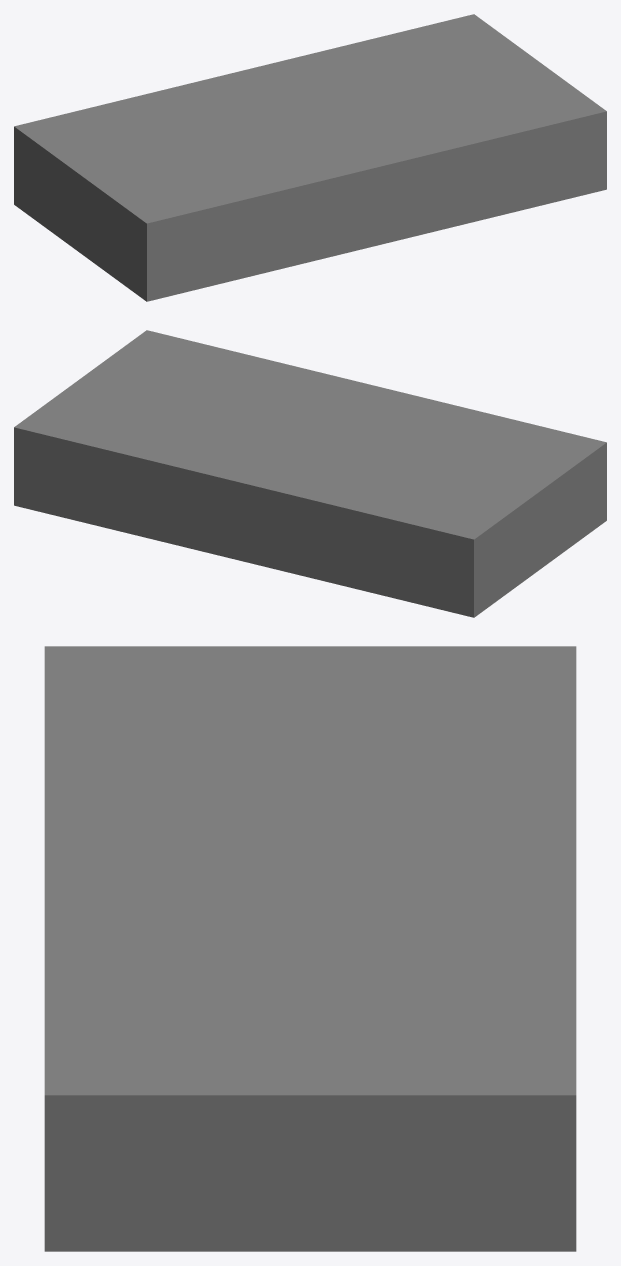
File: DeliveryConveyor.obj
3 views of the same model, one above another, from view 1: azimuth 30°, elevation 25°; view 2: azimuth 150°, elevation 25°; view 3: azimuth 270°, elevation 25° (orthographic). The views are drawn at different scales.
Size of the model in its own units: 8 by 1.3 by 4.
1 material, 1 textured.
